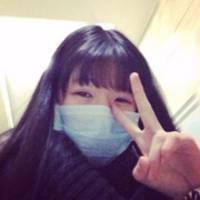face_mask: (61, 58, 141, 159)
